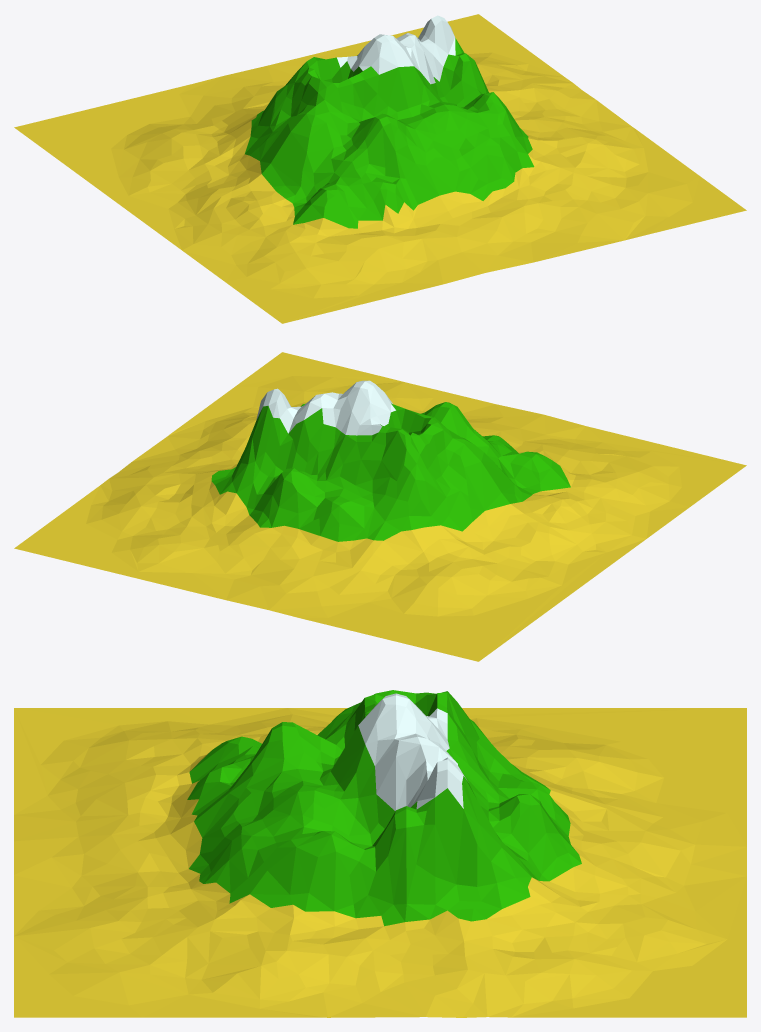
Rendered from Island.fbx.
3 renders of one model, top to bottom at view 1: azimuth 30°, elevation 25°; view 2: azimuth 150°, elevation 25°; view 3: azimuth 270°, elevation 25°, orthographic. The views are drawn at different scales.
Parts seen in each view (by area): view 1: Island; view 2: Island; view 3: Island.
Part boxes in pixels (bbox=[...]): Island: bbox=[14, 14, 746, 323]; Island: bbox=[14, 352, 746, 661]; Island: bbox=[14, 690, 746, 1017].
Bounding box in the file's own units: 180 × 47.24 × 180.
